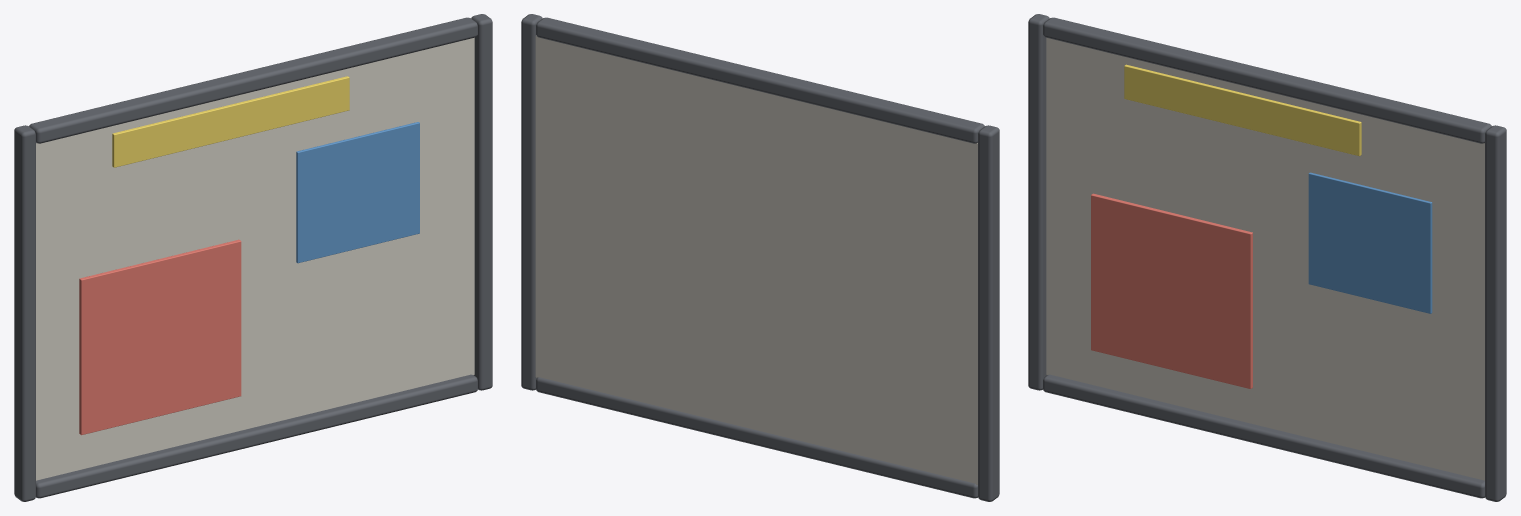
The picture shows the model from 3 angles, left to right: view 1: azimuth 30°, elevation 25°; view 2: azimuth 150°, elevation 25°; view 3: azimuth 330°, elevation 25°; orthographic projection.
Visible parts, largest first — view 1: framed-canvas-large; view 2: framed-canvas-large; view 3: framed-canvas-large.
Boxes of the visible parts, <box> form: framed-canvas-large: <box>14,14,492,501</box>; framed-canvas-large: <box>521,14,999,501</box>; framed-canvas-large: <box>1028,14,1506,501</box>.
Bounding box in the file's own units: 1.6 × 1.2 × 0.06.
